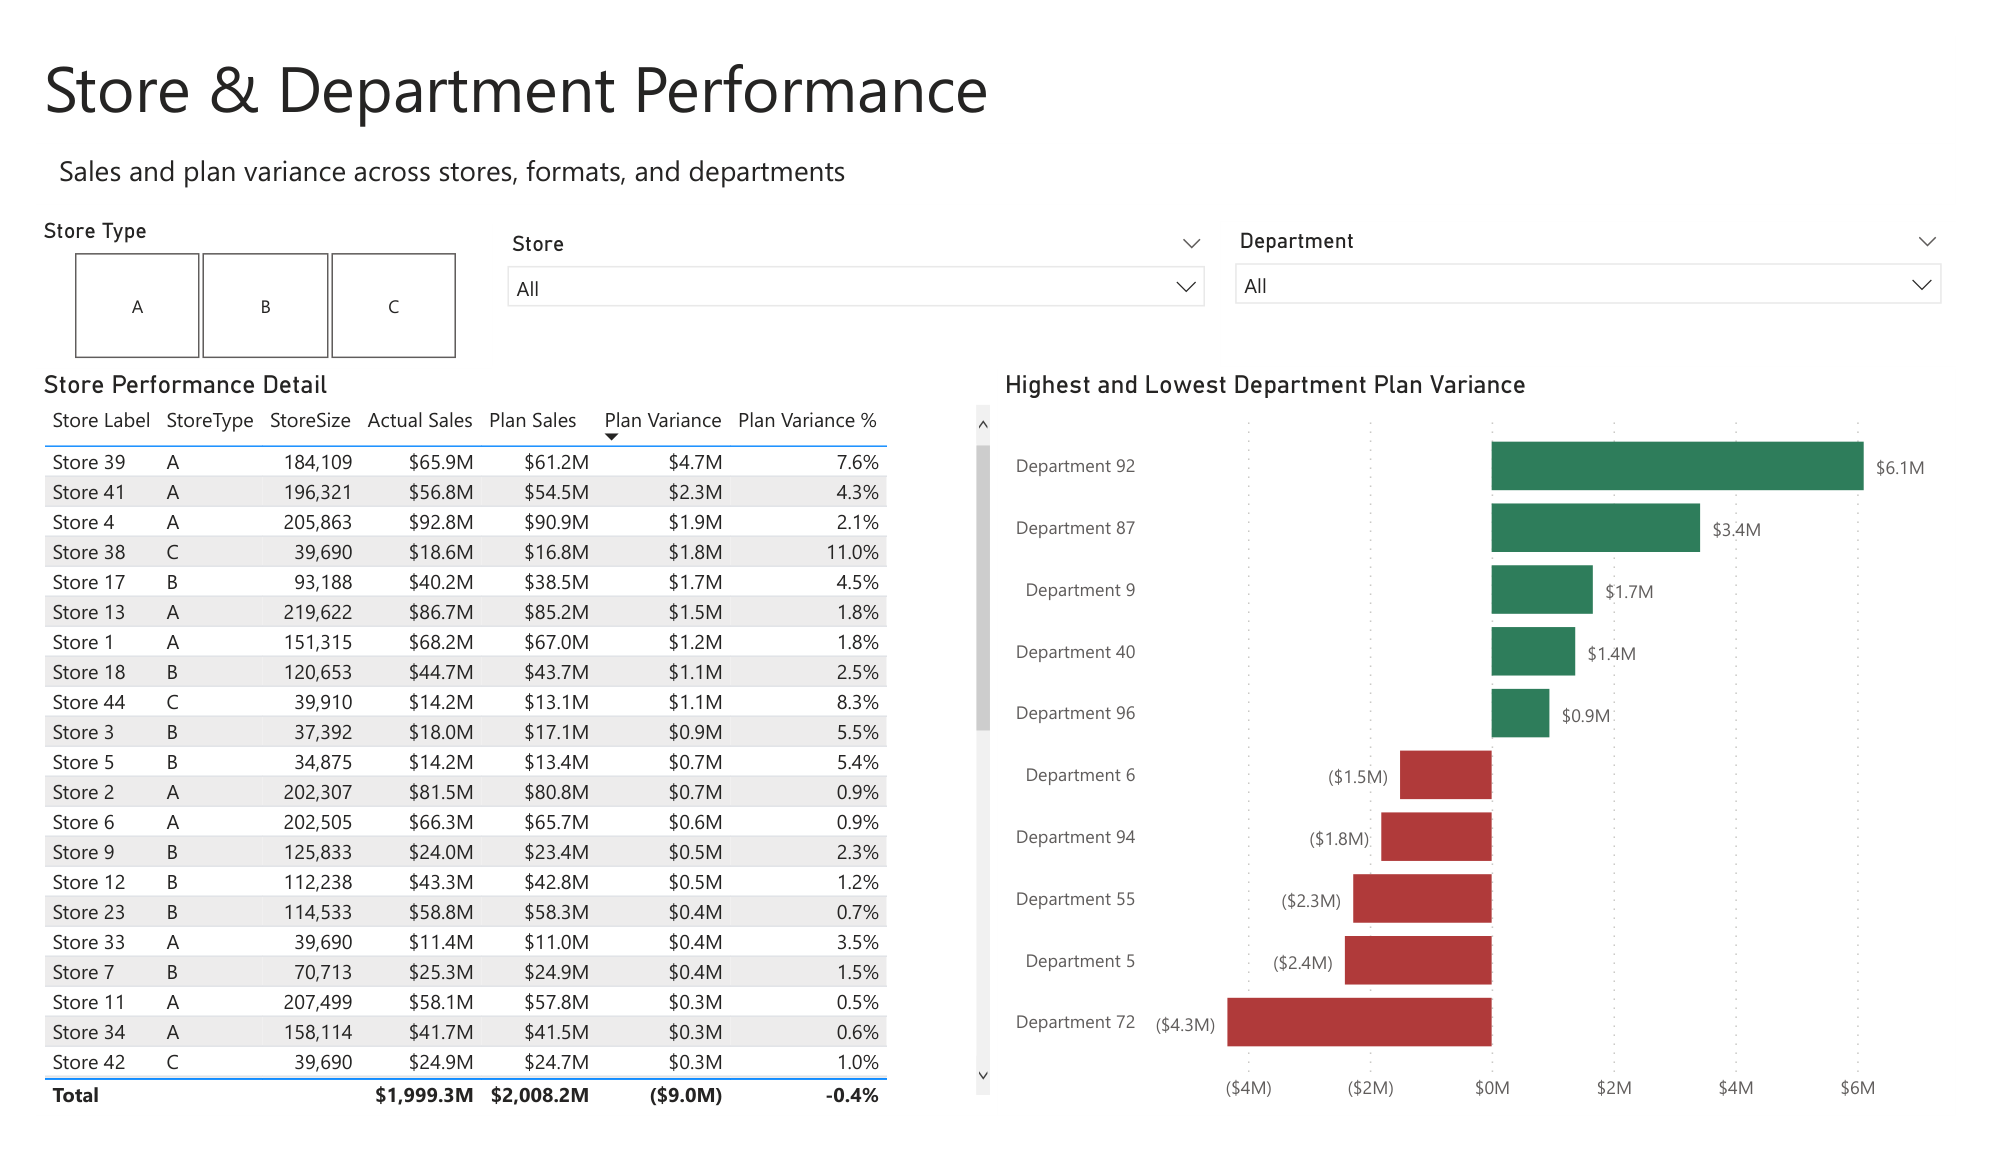

This screenshot's page, from the dashboard's own definition file:
{"tool":"powerbi","page":{"name":"Store & Department Performance","canvas":[1280,720],"ordinal":1},"visuals":[{"type":"textbox","box":[0,0,1269.3,73.4],"z":0},{"type":"slicer","title":"Store Type","fields":{"Values":["dim_store.StoreType"]},"box":[0,121.7,304.3,100.3],"z":0,"group":"g1"},{"type":"slicer","title":"Store","fields":{"Values":["dim_store.Store Label"]},"box":[304.3,125.8,485.1,94.9],"z":1000,"group":"g1"},{"type":"tableEx","title":"Store Performance Detail","fields":{"Values":["dim_store.Store Label","dim_store.StoreType","dim_store.StoreSize","fact_weekly_sales.Actual Sales","fact_weekly_sales.Plan Sales","fact_weekly_sales.Plan Variance","fact_weekly_sales.Plan Variance %"]},"box":[0,222,640.9,497.7],"z":1000},{"type":"slicer","fields":{"Values":["dim_department.Department Label"]},"box":[789.5,124,490.5,96.7],"z":2000,"group":"g1"},{"type":"clusteredBarChart","title":"Highest and Lowest Department Plan Variance","fields":{"Category":["dim_department.Department Label"],"Y":["fact_weekly_sales.Plan Variance"]},"box":[640.9,222,639.1,497.7],"z":2000},{"type":"group","id":"g1","title":"Group 1","box":[0,121.7,1280,100.3],"z":3000},{"type":"textbox","box":[0,0,1280,72],"z":4000},{"type":"textbox","box":[0,71.6,1280,41.2],"z":5000}]}

Visuals, with their boxes in screenshot pixels (x1, y1, x2, y2), scaled from the page's 1280x720 canvas onto the 1992x1152 screenshot:
textbox: (left=0, top=0, right=1975, bottom=117)
"Store Type" slicer: (left=0, top=195, right=474, bottom=355)
"Store" slicer: (left=474, top=201, right=1229, bottom=353)
"Store Performance Detail" tableEx: (left=0, top=355, right=997, bottom=1151)
slicer - dim_department.Department Label: (left=1229, top=198, right=1991, bottom=353)
"Highest and Lowest Department Plan Variance" clusteredBarChart: (left=997, top=355, right=1991, bottom=1151)
"Group 1" group: (left=0, top=195, right=1991, bottom=355)
textbox: (left=0, top=0, right=1991, bottom=115)
textbox: (left=0, top=115, right=1991, bottom=180)
